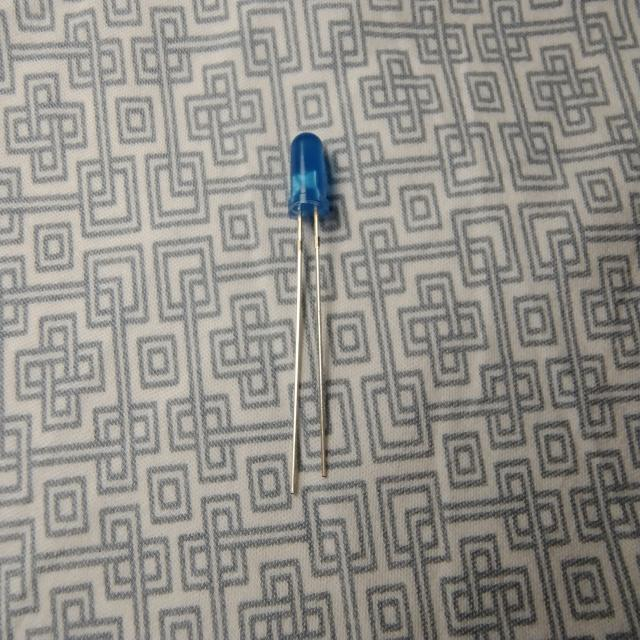blue_led: (287, 130, 330, 222)
